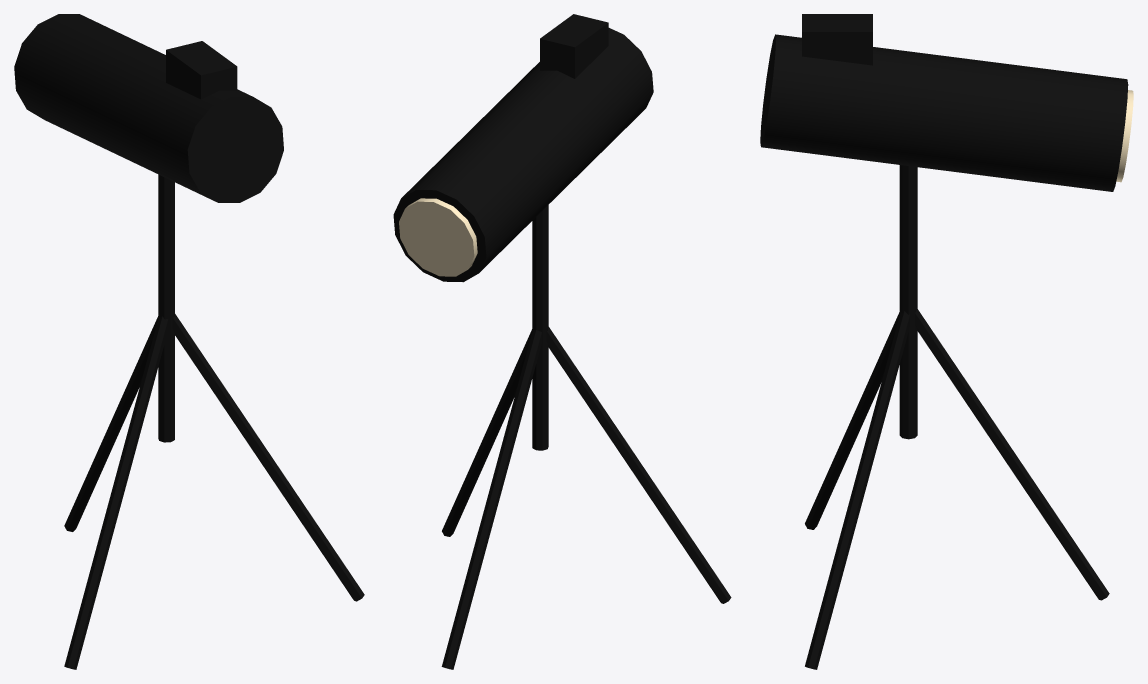
The model's file is venue.stage.follow_spot.glb.
The picture shows the model from 3 angles, left to right: view 1: azimuth 30°, elevation 25°; view 2: azimuth 150°, elevation 25°; view 3: azimuth 270°, elevation 25°; orthographic projection. The views are drawn at different scales.
Visible parts, largest first — view 1: main__plastic_black; view 2: main__plastic_black, main__glow; view 3: main__plastic_black, main__glow.
Boxes of the visible parts, box(x1,y1,x2,y2) form: main__plastic_black: box(14, 14, 364, 669); main__plastic_black: box(393, 14, 731, 669); main__glow: box(399, 198, 477, 276); main__plastic_black: box(760, 14, 1128, 669); main__glow: box(1116, 90, 1133, 182).
Size of the model in its own units: 0.9815 by 1.79 by 1.05.
